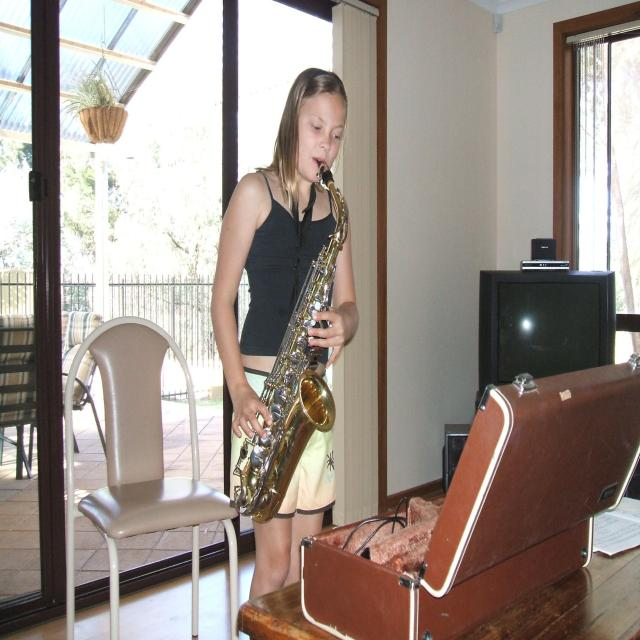saxophone: (232, 160, 353, 526)
